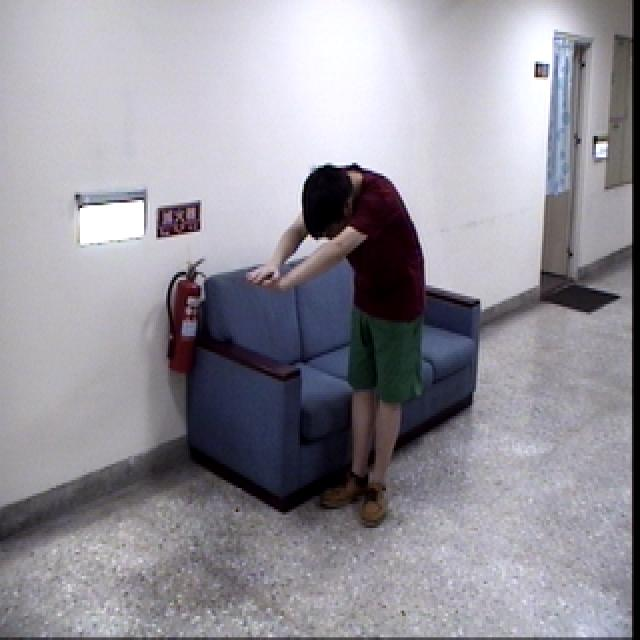bend: (237, 145, 442, 544)
